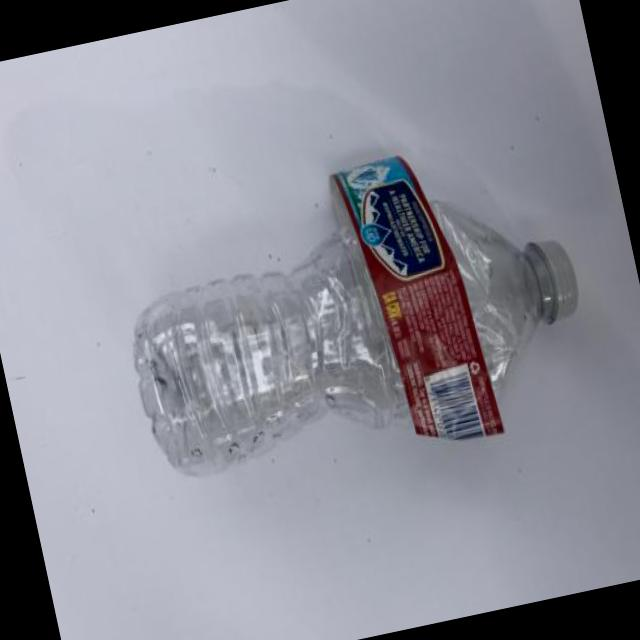Recycle: (97, 120, 612, 539)
